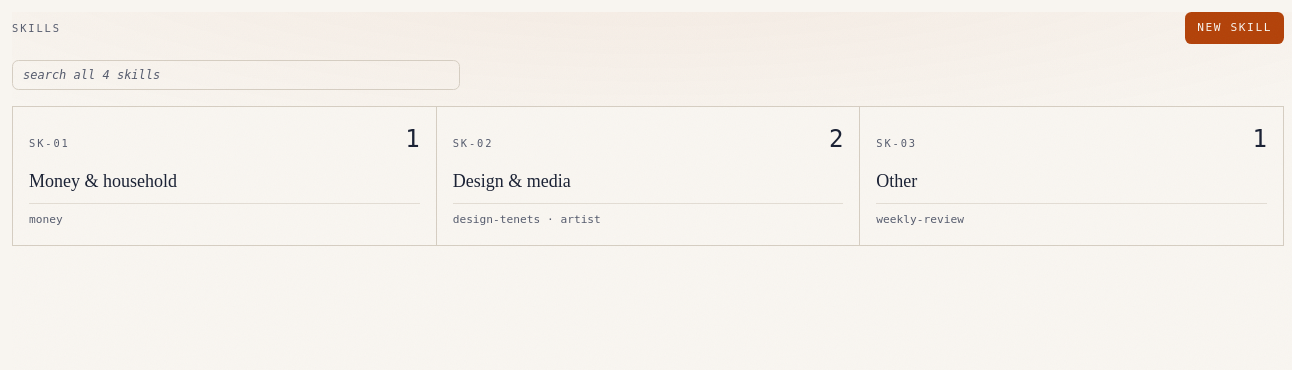
Test: SkillsView › searches across every bucket and labels each hit with its bucket
Expected: the button with aria-label "open Design & media" is shown, [437,107,859,245]
Type "r" into the field named "search skills".
click(236, 75); type("r")  # box [12,60,460,90]
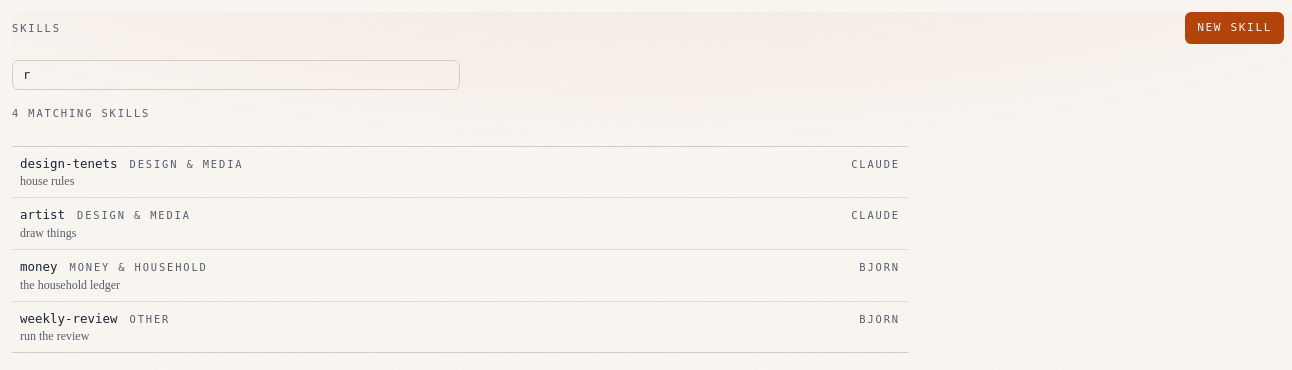
Expected: the text "4 matching skills" is shown, [12,107,150,119]
Replace the text in the field named "search skills" with "house" at coordinates (236, 75), box [12,60,460,90]
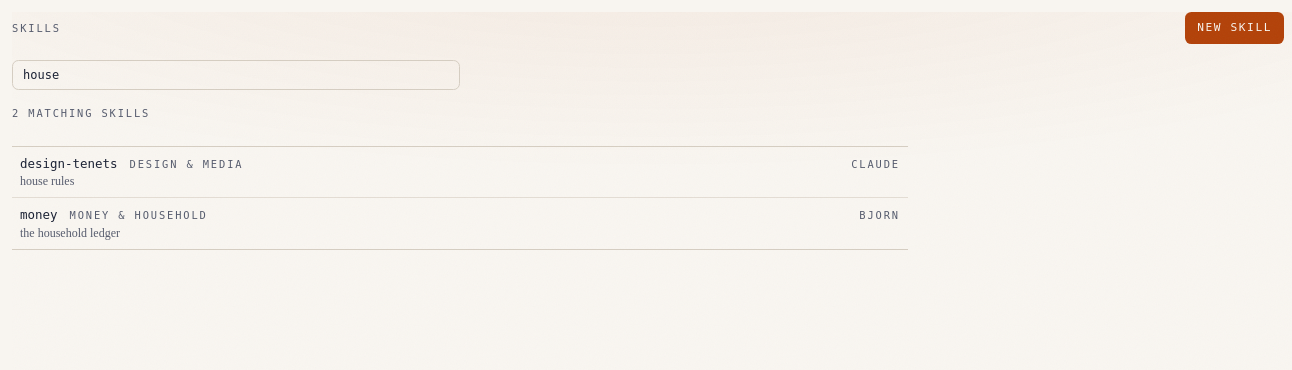
Expected: the text "design-tenets" is shown, [20,155,118,173]
Expected: the text "2 matching skills" is shown, [12,107,150,119]
